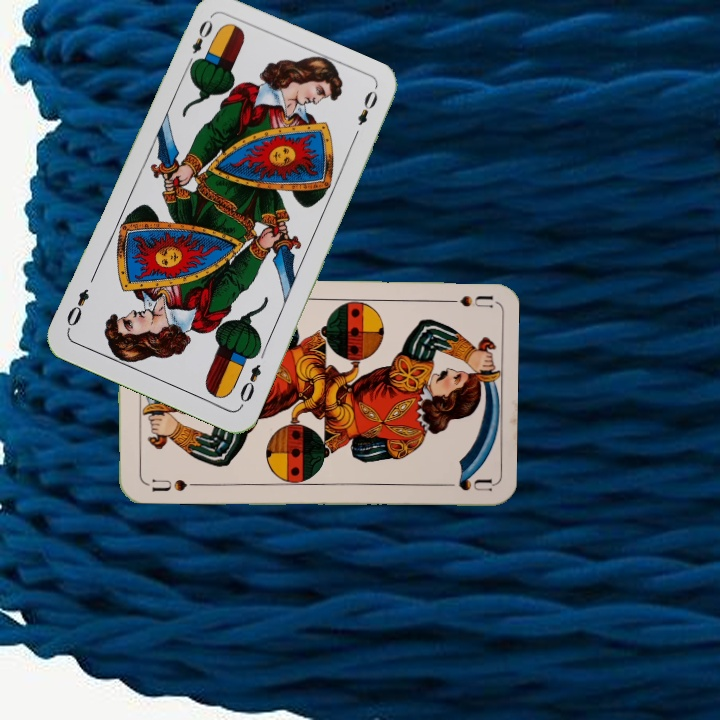EO: (183, 15, 216, 70), (235, 360, 264, 405)
SU: (434, 292, 493, 310), (148, 475, 200, 494)
